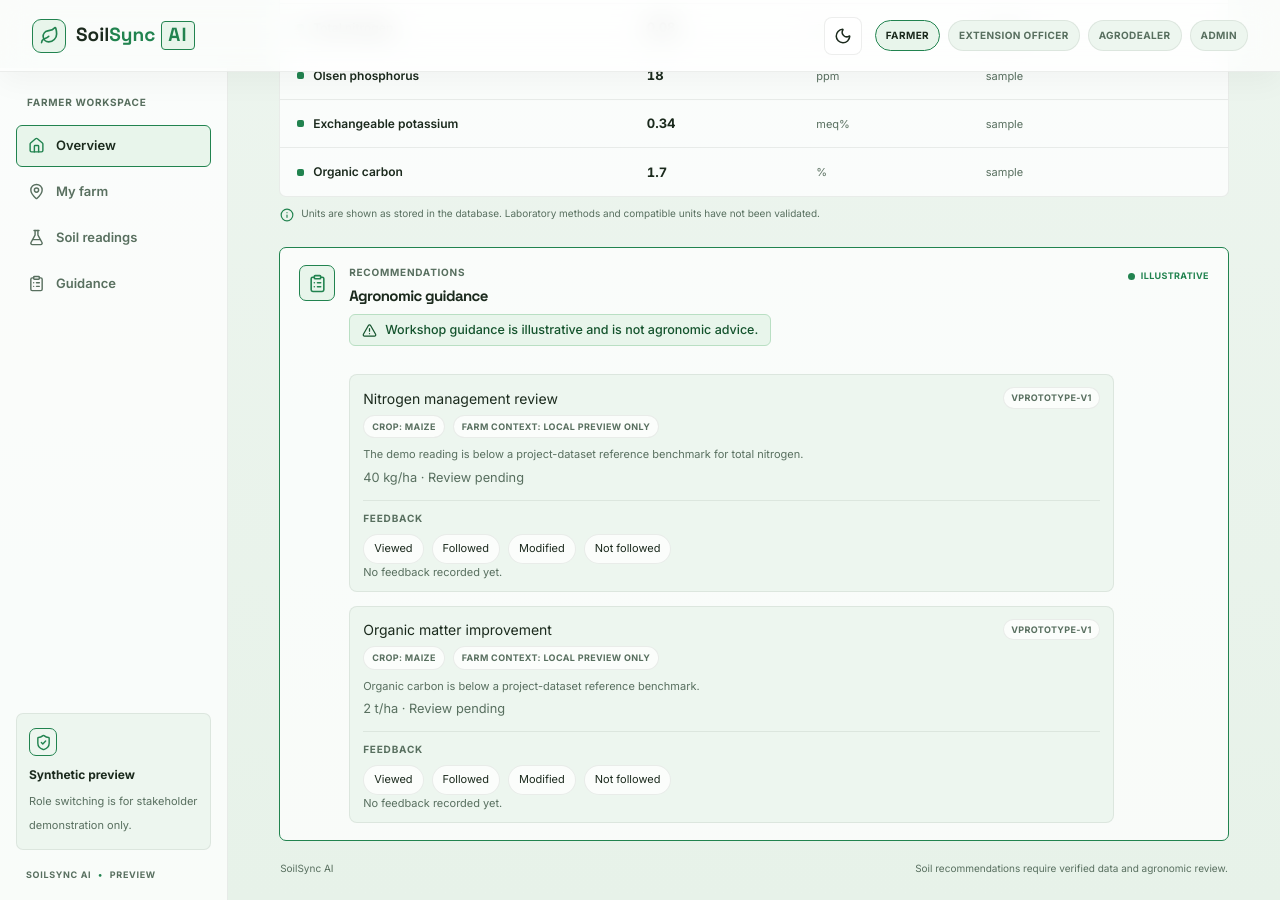
Scenario: farmer overview prototype › tracks recommendation feedback actions for the farmer
(page scrolled)
Expected: the heading "Nitrogen management review" is shown, [363, 388, 558, 409]
What coordinates should you click on to do the following:
click the button "Followed" below "40 kg/ha"
I would click on:
 (466, 548)
Its box is [432, 534, 500, 564].
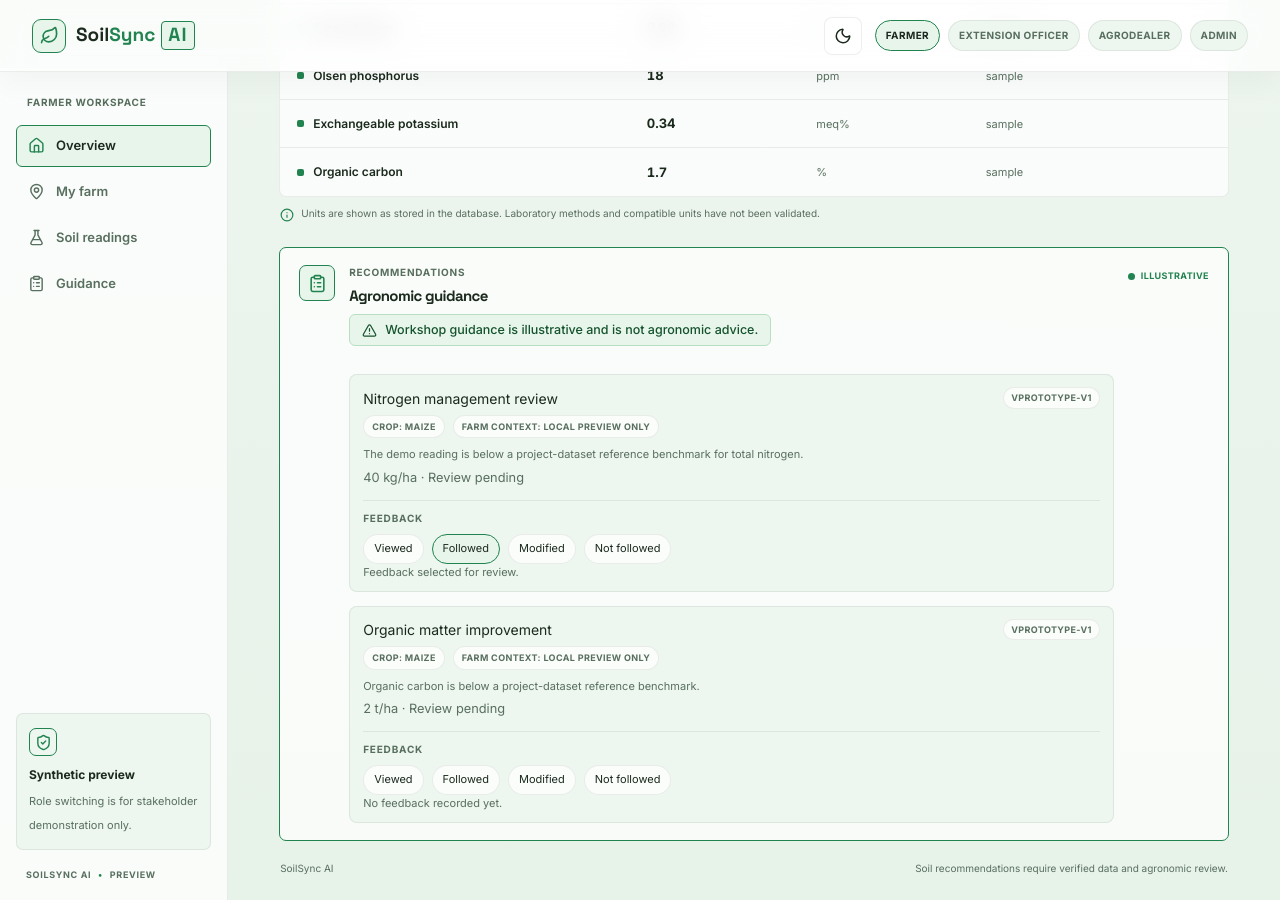
Expected: the text "Crop: maize" below "Nitrogen management review" is shown, [363, 415, 445, 438]
Expected: the text "Feedback selected for review." is shown, [363, 564, 519, 578]
